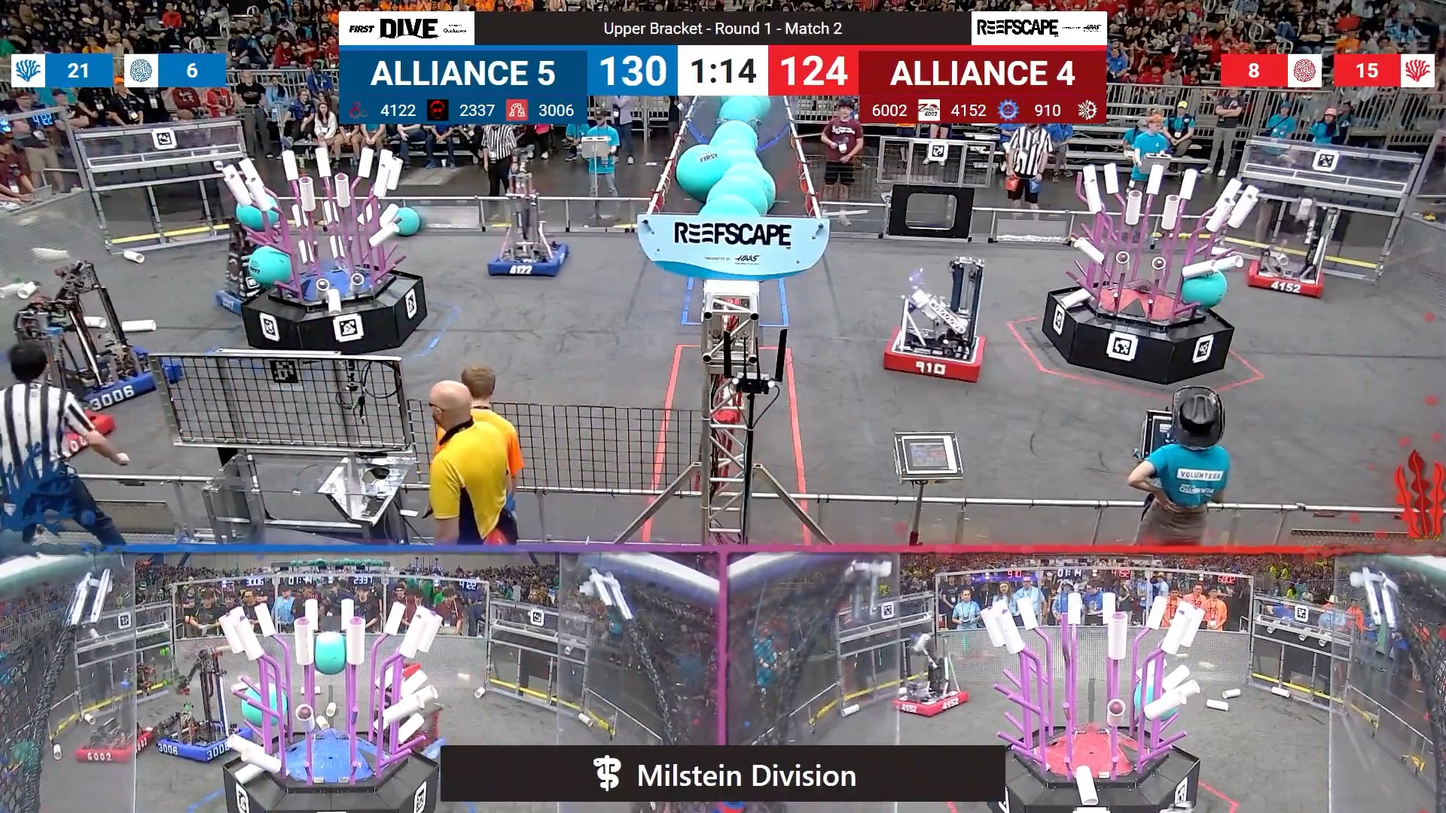bumpers: (876, 324, 997, 389), (51, 353, 180, 409), (144, 718, 241, 765), (1237, 257, 1336, 301), (484, 241, 578, 279), (72, 723, 150, 768), (889, 684, 973, 718), (206, 280, 270, 316)
